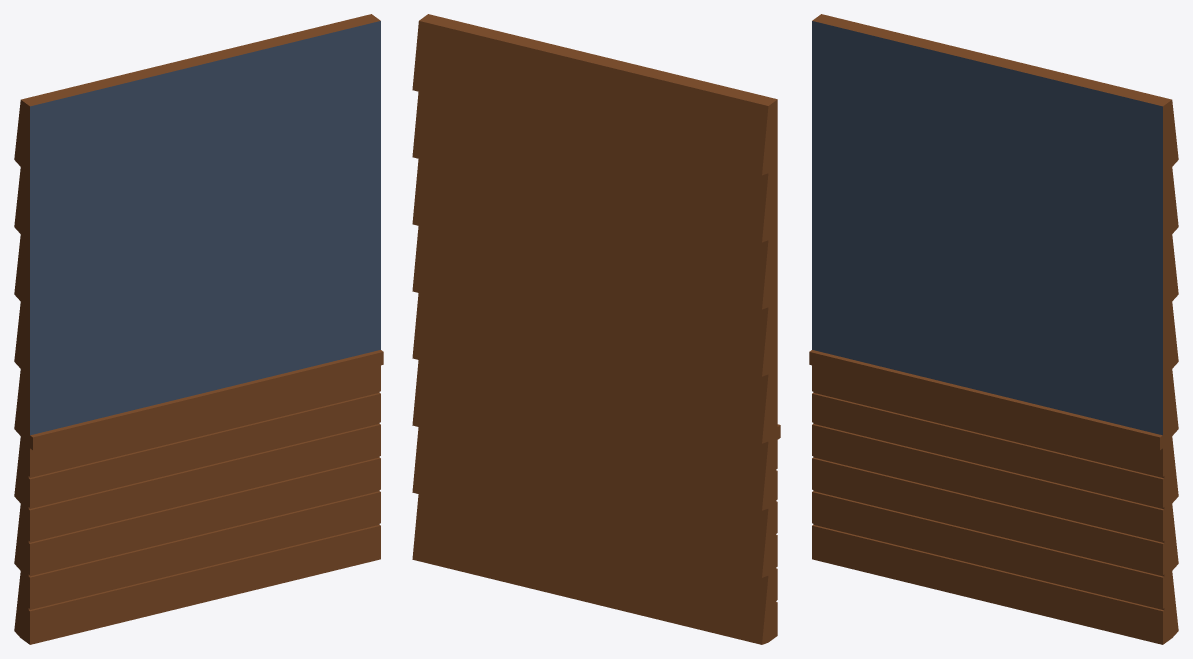
File: ww_small_wall_b.glb
3 renders of one model, left to right at view 1: azimuth 30°, elevation 25°; view 2: azimuth 150°, elevation 25°; view 3: azimuth 330°, elevation 25°, orthographic.
Visible parts, largest first — view 1: Small_Wall_B; view 2: Small_Wall_B; view 3: Small_Wall_B.
Part boxes in pixels (bbox=[...]): Small_Wall_B: bbox=[14, 14, 383, 644]; Small_Wall_B: bbox=[412, 14, 780, 644]; Small_Wall_B: bbox=[809, 14, 1178, 644].
Size of the model in its own units: 2.4 by 3.52 by 0.2204.
